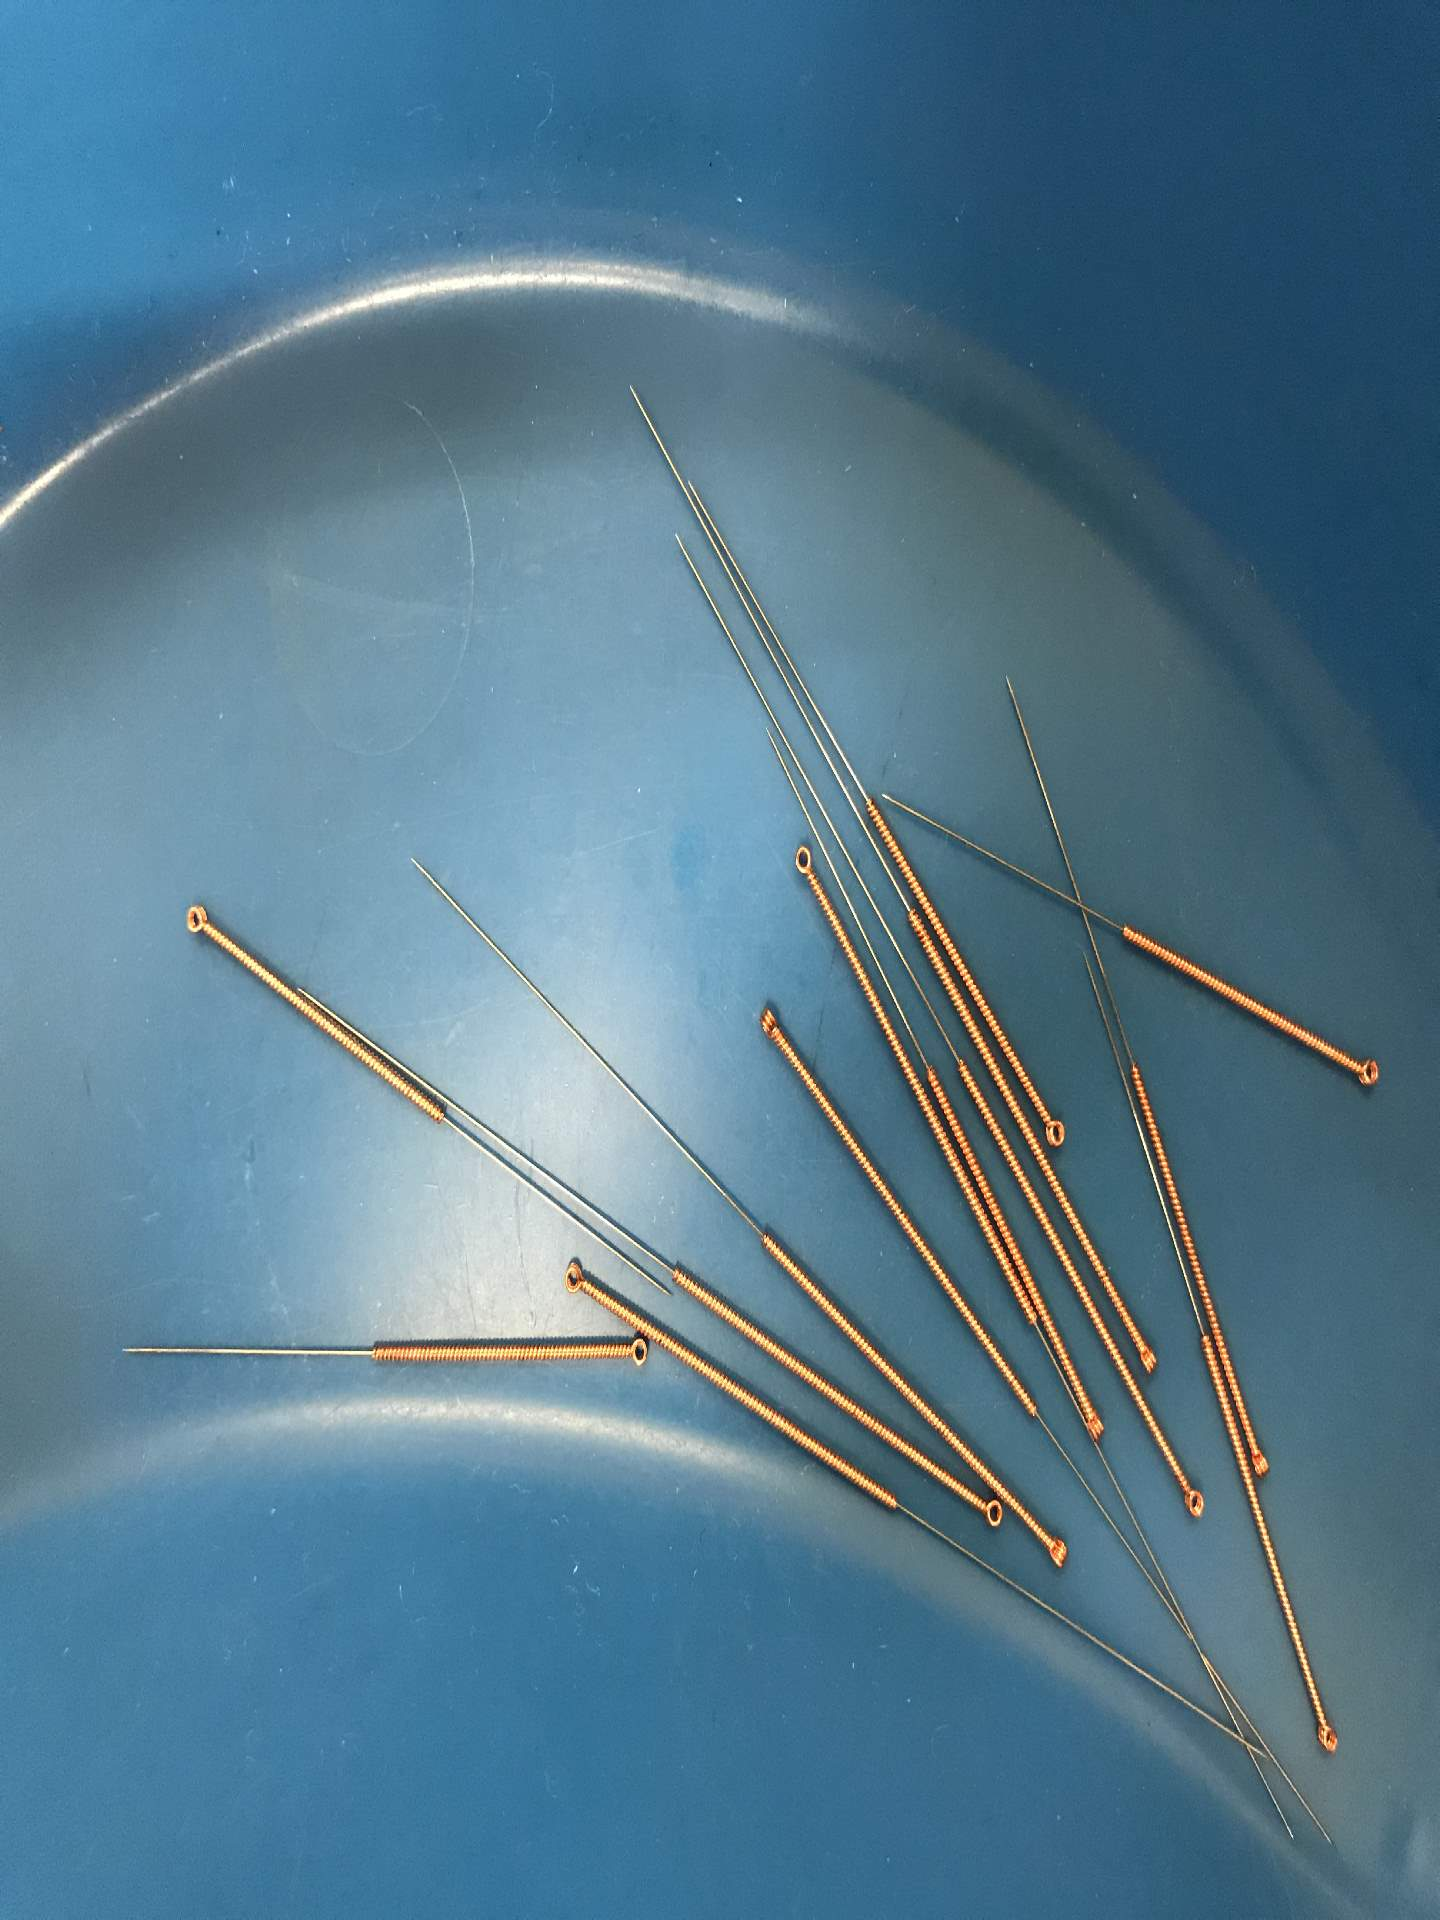needle: (172, 890, 225, 951), (1030, 1519, 1078, 1577), (1305, 1705, 1348, 1764), (1343, 1048, 1389, 1102), (1174, 1473, 1215, 1528), (750, 992, 788, 1048), (787, 831, 821, 887), (1075, 1400, 1113, 1450), (1131, 1332, 1168, 1383), (555, 1253, 594, 1300), (1038, 1101, 1072, 1152), (614, 1332, 653, 1373), (970, 1495, 1006, 1534), (1248, 1436, 1275, 1482)
